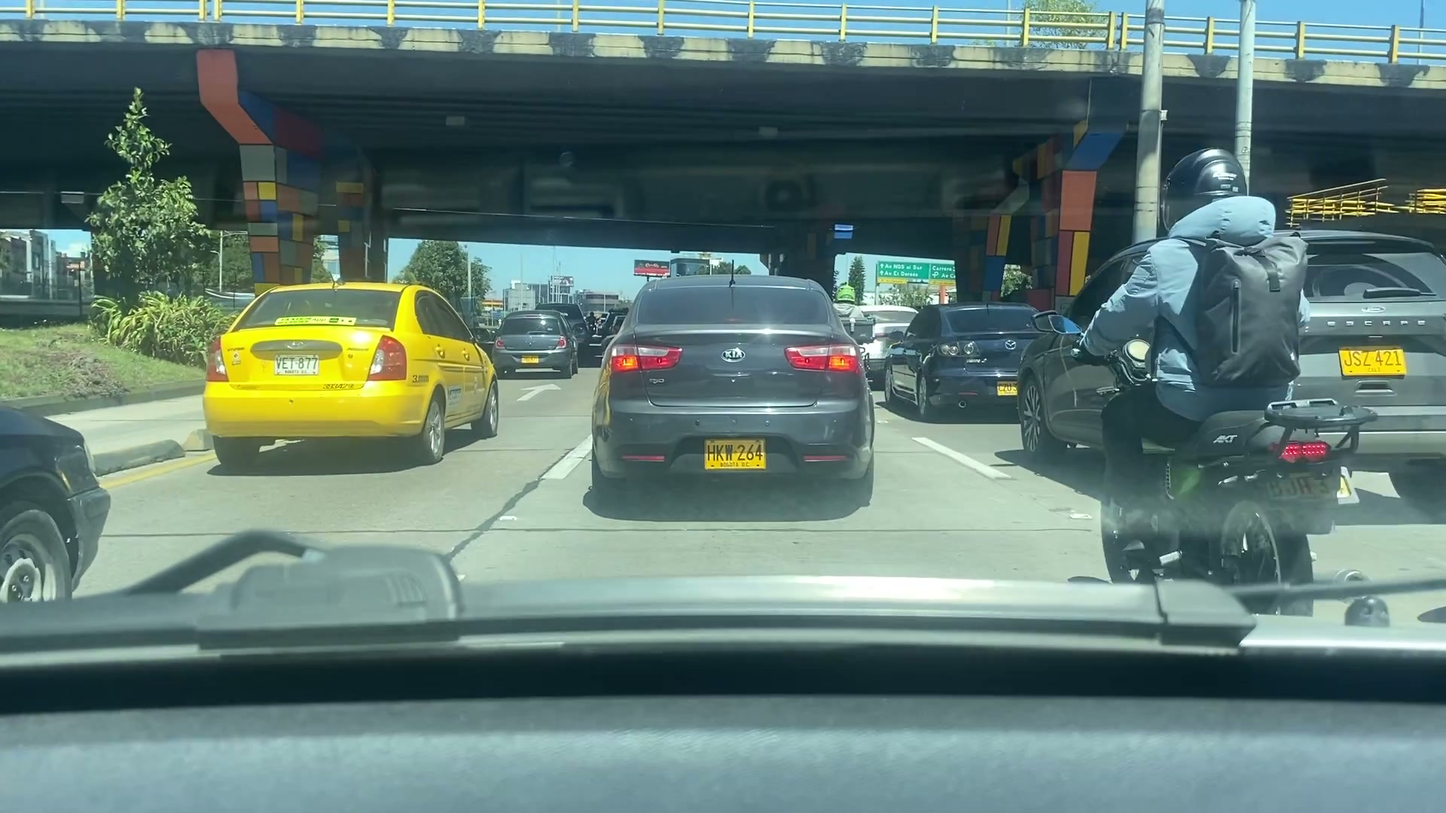car: (1020, 227, 1444, 516), (589, 274, 871, 509), (202, 280, 502, 462), (0, 405, 114, 599), (882, 302, 1050, 419), (492, 306, 582, 380), (859, 304, 922, 375)
motorcycle: (1064, 344, 1391, 636)
person: (1071, 144, 1321, 515)
